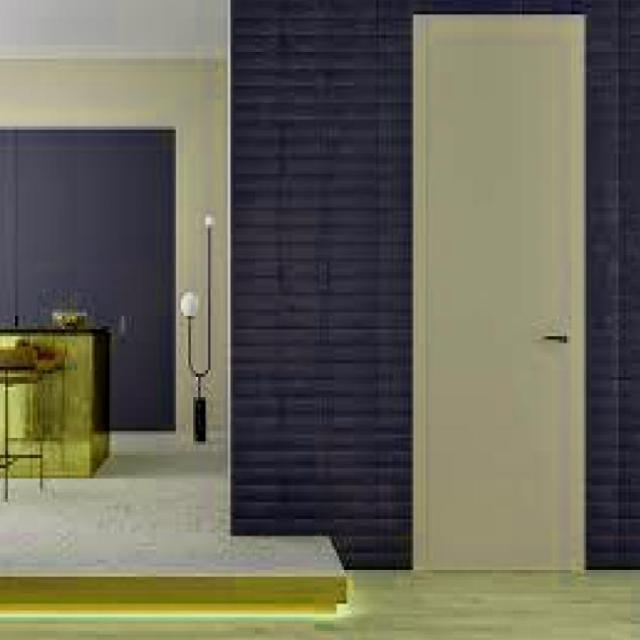door: (411, 11, 586, 572)
